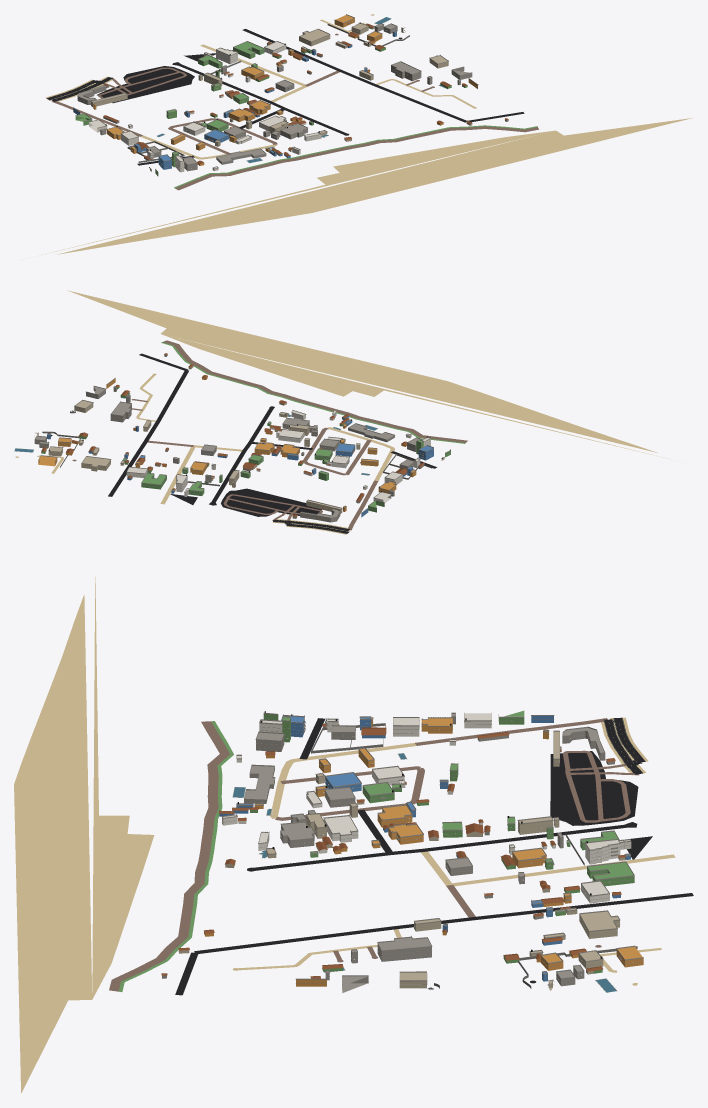
Rendered from zone_t1_-1.glb.
3 views of the same model, one above another, from view 1: azimuth 30°, elevation 25°; view 2: azimuth 150°, elevation 25°; view 3: azimuth 270°, elevation 25° (orthographic). The views are drawn at different scales.
Visible parts, largest first — view 1: zone_plage_t1_-1, parapet_t1_-1, bld_beton_t1_-1-col, bld_peinture_blanc_t1_-1-col, bld_peinture_ecaillee_t1_-1-col, bld_peinture_ocre_t1_-1-col, zone_parking_t1_-1, route_residential_bitume_t1_-1, bld_peinture_vert_t1_-1-col, promenade_t1_-1, toit_tole_t1_-1, route_residential_paves_t1_-1 (+7 smaller); view 2: zone_plage_t1_-1, parapet_t1_-1, bld_beton_t1_-1-col, zone_parking_t1_-1, bld_peinture_blanc_t1_-1-col, bld_peinture_ocre_t1_-1-col, bld_peinture_ecaillee_t1_-1-col, route_residential_bitume_t1_-1, bld_peinture_vert_t1_-1-col, promenade_t1_-1, toit_tole_t1_-1, route_residential_paves_t1_-1 (+6 smaller); view 3: zone_plage_t1_-1, bld_beton_t1_-1-col, parapet_t1_-1, bld_peinture_blanc_t1_-1-col, route_residential_bitume_t1_-1, zone_parking_t1_-1, bld_peinture_ocre_t1_-1-col, bld_peinture_ecaillee_t1_-1-col, bld_peinture_vert_t1_-1-col, promenade_t1_-1, toit_tole_t1_-1, route_residential_terre_t1_-1 (+6 smaller).
Boxes of the visible parts, x1=… form: zone_plage_t1_-1: x1=41, y1=118, x2=692, y2=255; parapet_t1_-1: x1=73, y1=14, x2=477, y2=171; bld_beton_t1_-1-col: x1=77, y1=24, x2=508, y2=171; bld_peinture_blanc_t1_-1-col: x1=89, y1=41, x2=321, y2=172; bld_peinture_ecaillee_t1_-1-col: x1=91, y1=23, x2=472, y2=171; bld_peinture_ocre_t1_-1-col: x1=93, y1=15, x2=477, y2=165; zone_parking_t1_-1: x1=97, y1=53, x2=215, y2=103; route_residential_bitume_t1_-1: x1=137, y1=29, x2=524, y2=165; bld_peinture_vert_t1_-1-col: x1=75, y1=27, x2=467, y2=176; promenade_t1_-1: x1=175, y1=126, x2=538, y2=190; toit_tole_t1_-1: x1=103, y1=23, x2=508, y2=164; route_residential_paves_t1_-1: x1=51, y1=71, x2=339, y2=154; zone_plage_t1_-1: x1=67, y1=290, x2=668, y2=458; parapet_t1_-1: x1=34, y1=378, x2=450, y2=518; bld_beton_t1_-1-col: x1=34, y1=354, x2=424, y2=522; zone_parking_t1_-1: x1=170, y1=488, x2=321, y2=516; bld_peinture_blanc_t1_-1-col: x1=126, y1=410, x2=430, y2=503; bld_peinture_ocre_t1_-1-col: x1=38, y1=377, x2=416, y2=511; bld_peinture_ecaillee_t1_-1-col: x1=34, y1=366, x2=444, y2=513; route_residential_bitume_t1_-1: x1=108, y1=353, x2=436, y2=505; bld_peinture_vert_t1_-1-col: x1=41, y1=386, x2=450, y2=512; promenade_t1_-1: x1=163, y1=340, x2=467, y2=442; toit_tole_t1_-1: x1=41, y1=353, x2=424, y2=516; route_residential_paves_t1_-1: x1=147, y1=427, x2=378, y2=530; zone_plage_t1_-1: x1=14, y1=576, x2=154, y2=1093; bld_beton_t1_-1-col: x1=162, y1=714, x2=614, y2=992; parapet_t1_-1: x1=222, y1=712, x2=643, y2=984; bld_peinture_blanc_t1_-1-col: x1=222, y1=713, x2=631, y2=903; route_residential_bitume_t1_-1: x1=175, y1=718, x2=693, y2=995; zone_parking_t1_-1: x1=550, y1=751, x2=652, y2=859; bld_peinture_ocre_t1_-1-col: x1=204, y1=718, x2=643, y2=986; bld_peinture_ecaillee_t1_-1-col: x1=178, y1=731, x2=625, y2=990; bld_peinture_vert_t1_-1-col: x1=250, y1=710, x2=634, y2=973; promenade_t1_-1: x1=109, y1=721, x2=229, y2=991; toit_tole_t1_-1: x1=161, y1=724, x2=625, y2=978; route_residential_terre_t1_-1: x1=270, y1=743, x2=675, y2=886.
Size of the model in its own units: 988 by 18.9 by 535.
